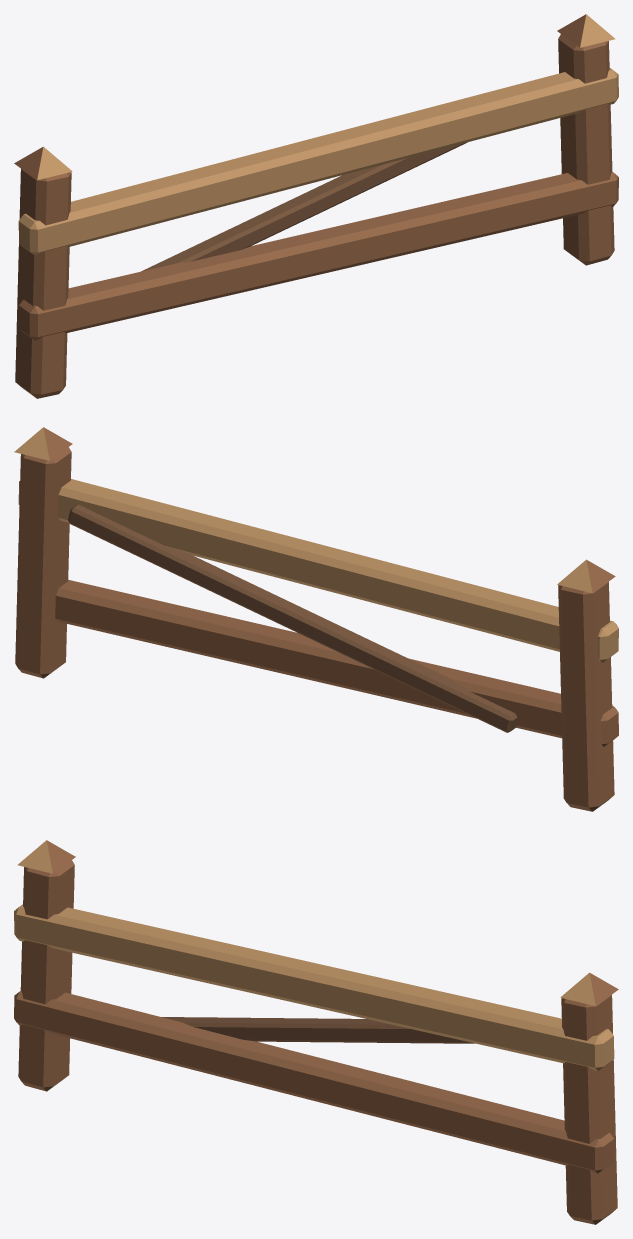
The model's file is craftedFence.glb.
3 renders of one model, top to bottom at view 1: azimuth 30°, elevation 25°; view 2: azimuth 150°, elevation 25°; view 3: azimuth 330°, elevation 25°, orthographic.
Parts seen in each view (by area): view 1: craftedFence_combined_lowpoly_mesh; view 2: craftedFence_combined_lowpoly_mesh; view 3: craftedFence_combined_lowpoly_mesh.
Boxes of the visible parts, <box> form: craftedFence_combined_lowpoly_mesh: <box>14,14,618,398</box>; craftedFence_combined_lowpoly_mesh: <box>14,427,618,811</box>; craftedFence_combined_lowpoly_mesh: <box>14,840,618,1224</box>.
Size of the model in its own units: 1.91 by 0.7559 by 0.1345.
